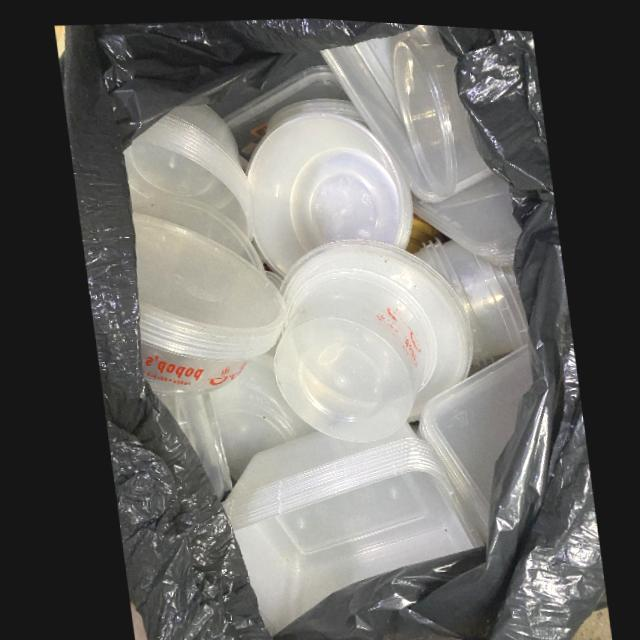plastic: (218, 428, 481, 631), (270, 235, 471, 438), (244, 95, 415, 273), (130, 210, 283, 391), (413, 336, 530, 524), (122, 99, 251, 233), (412, 232, 528, 372), (392, 33, 491, 192)
